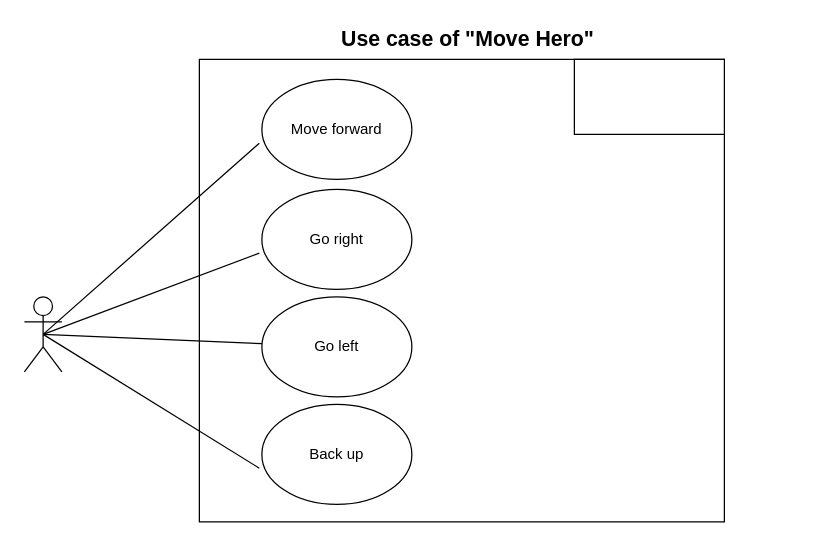
This 821x544 diagram has some shape labels left out. The centre of each missing label's shape, as x and y in pixels:
"Maze game" goes at point 648,96.
"Player" goes at point 42,334.
